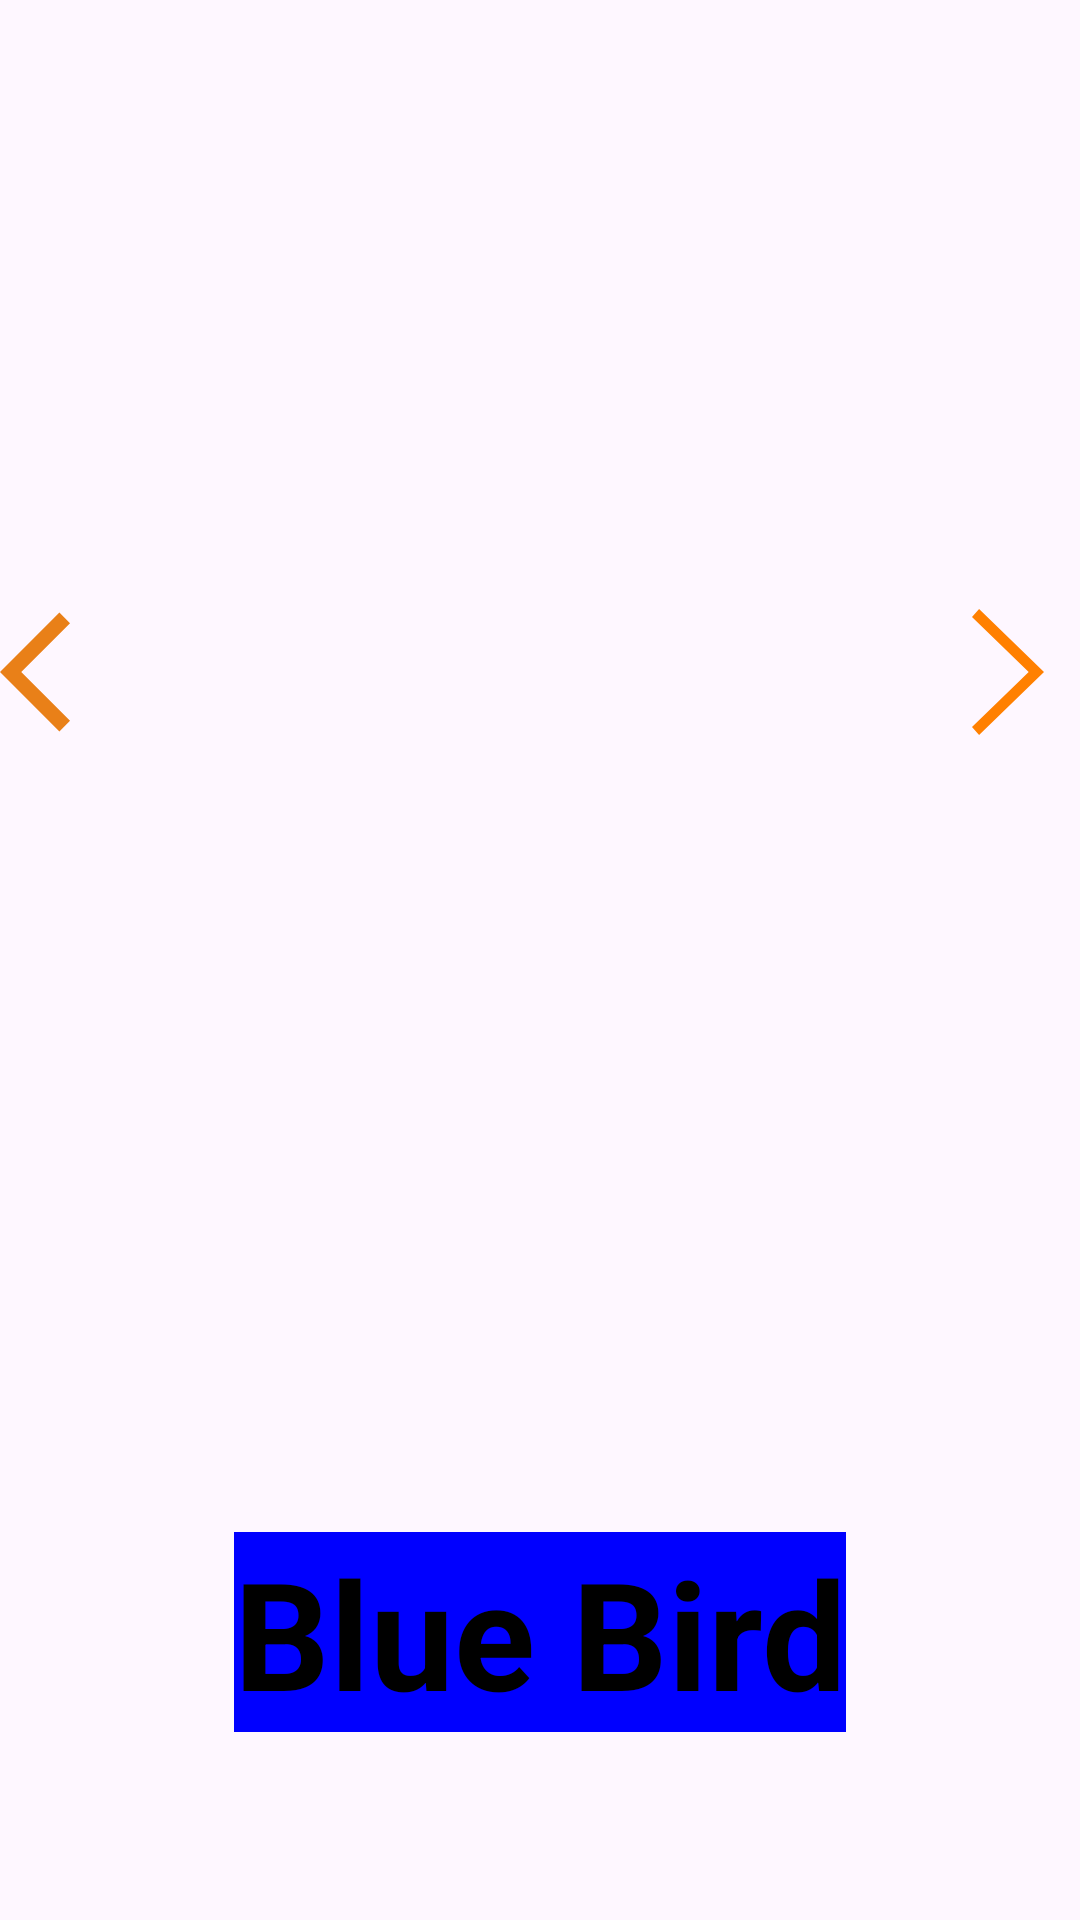

Icon bounding boxes for this 1080 × 1920 phone screenshot, format (x1, y1, x2, y2):
arrow back: (0, 612, 70, 732)
right arrow: (972, 609, 1044, 735)
